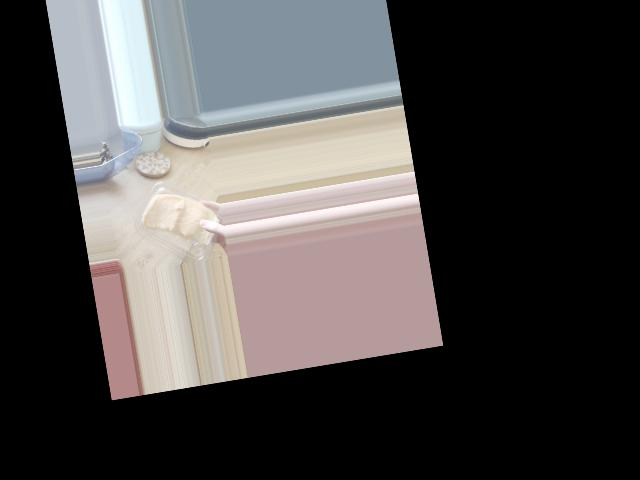cheese: (118, 166, 221, 270)
